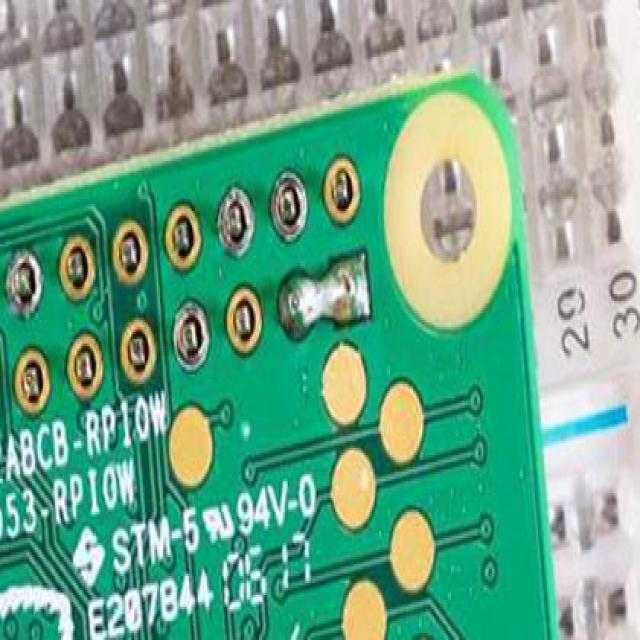Short_circuit: (274, 246, 372, 336)
